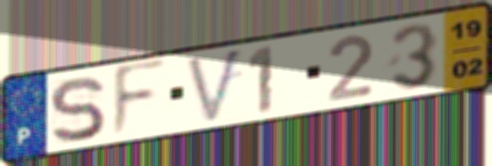1: (245, 42, 276, 117)
2: (325, 33, 375, 104)
3: (382, 21, 444, 94)
F: (109, 56, 170, 144)
S: (45, 74, 108, 146)
V: (184, 45, 246, 127)
